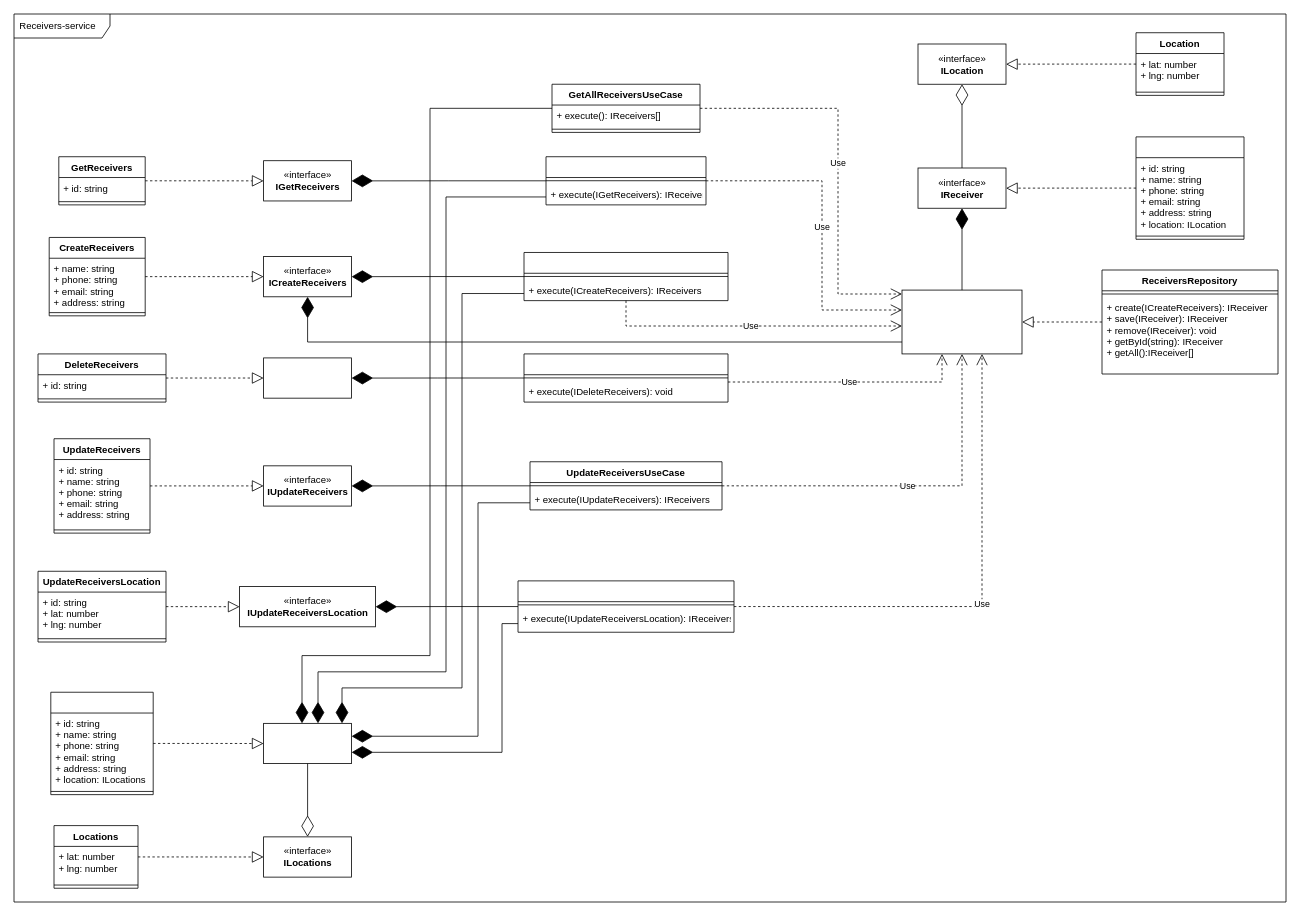
Some shapes in this 1300 by 916 pixel diagram are drawn without their labels. Here are the shapes that lost their labels. From the top down, the box of each, then its label:
(545, 156, 706, 205): GetReceiversUseCase
(1135, 136, 1244, 239): Receiver
(523, 252, 728, 301): CreateReceiversUseCase
(901, 289, 1022, 354): «interface» IReceiversRepository
(263, 357, 352, 398): «interface» IDeleteReceivers
(523, 353, 728, 402): DeleteReceiversUseCase
(517, 580, 734, 632): UpdateLocationUseCase
(50, 691, 153, 795): Receivers
(263, 723, 352, 764): «interface» IReceivers
